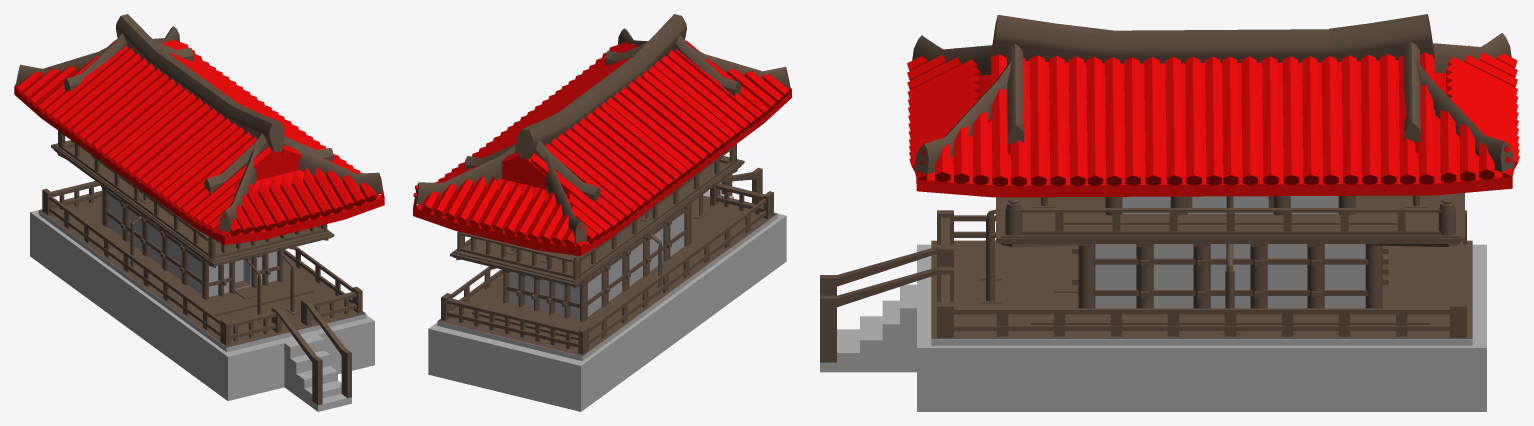
Rendered from Japanese_house_05.fbx.
The picture shows the model from 3 angles, left to right: view 1: azimuth 30°, elevation 25°; view 2: azimuth 150°, elevation 25°; view 3: azimuth 270°, elevation 25°; orthographic projection. The views are drawn at different scales.
Parts seen in each view (by area): view 1: Japanese_house_05; view 2: Japanese_house_05; view 3: Japanese_house_05.
Boxes of the visible parts, box(x1,y1,x2,y2) form: Japanese_house_05: box(14, 14, 384, 411); Japanese_house_05: box(413, 14, 791, 411); Japanese_house_05: box(820, 14, 1519, 411).
Bounding box in the file's own units: 72.27 × 94.47 × 174.
